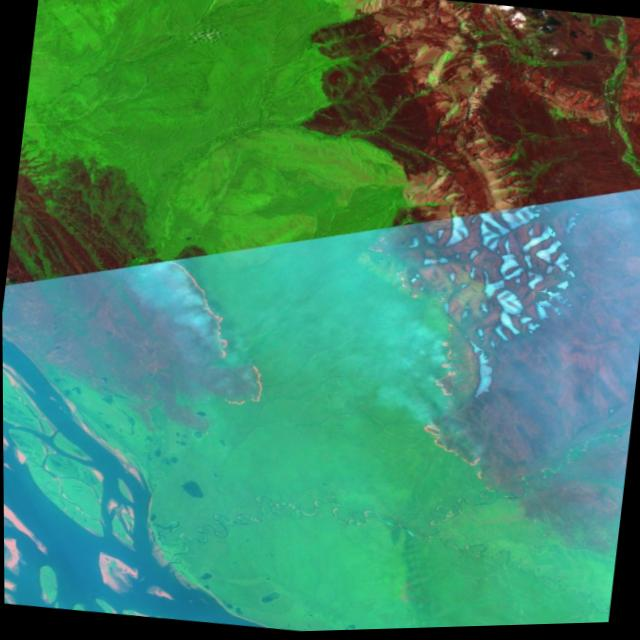fire: (332, 230, 518, 493), (142, 256, 280, 417)
